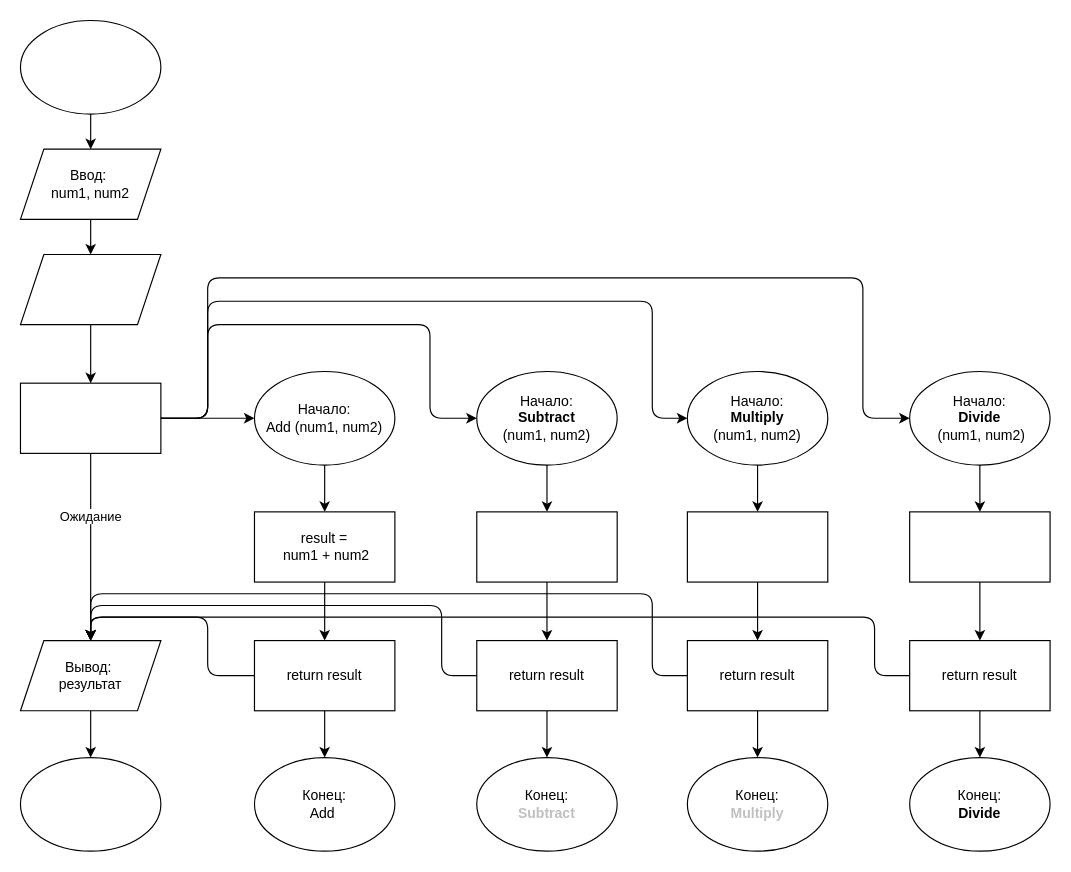
Image size: 1071x872. Some labels were removed from this diagram. The box of each missing label's shape, as (x1, y1, x2, y2) in pixels:
result = num1 * num2: (686, 511, 828, 582)
result = num1 - num2: (476, 511, 617, 582)
result = num1 / num2: (909, 511, 1050, 582)
Ввод: operation: (19, 253, 161, 325)
Конец: main: (19, 756, 161, 851)
Начало: main: (19, 19, 161, 114)
Результат Операциии: (19, 382, 161, 453)
